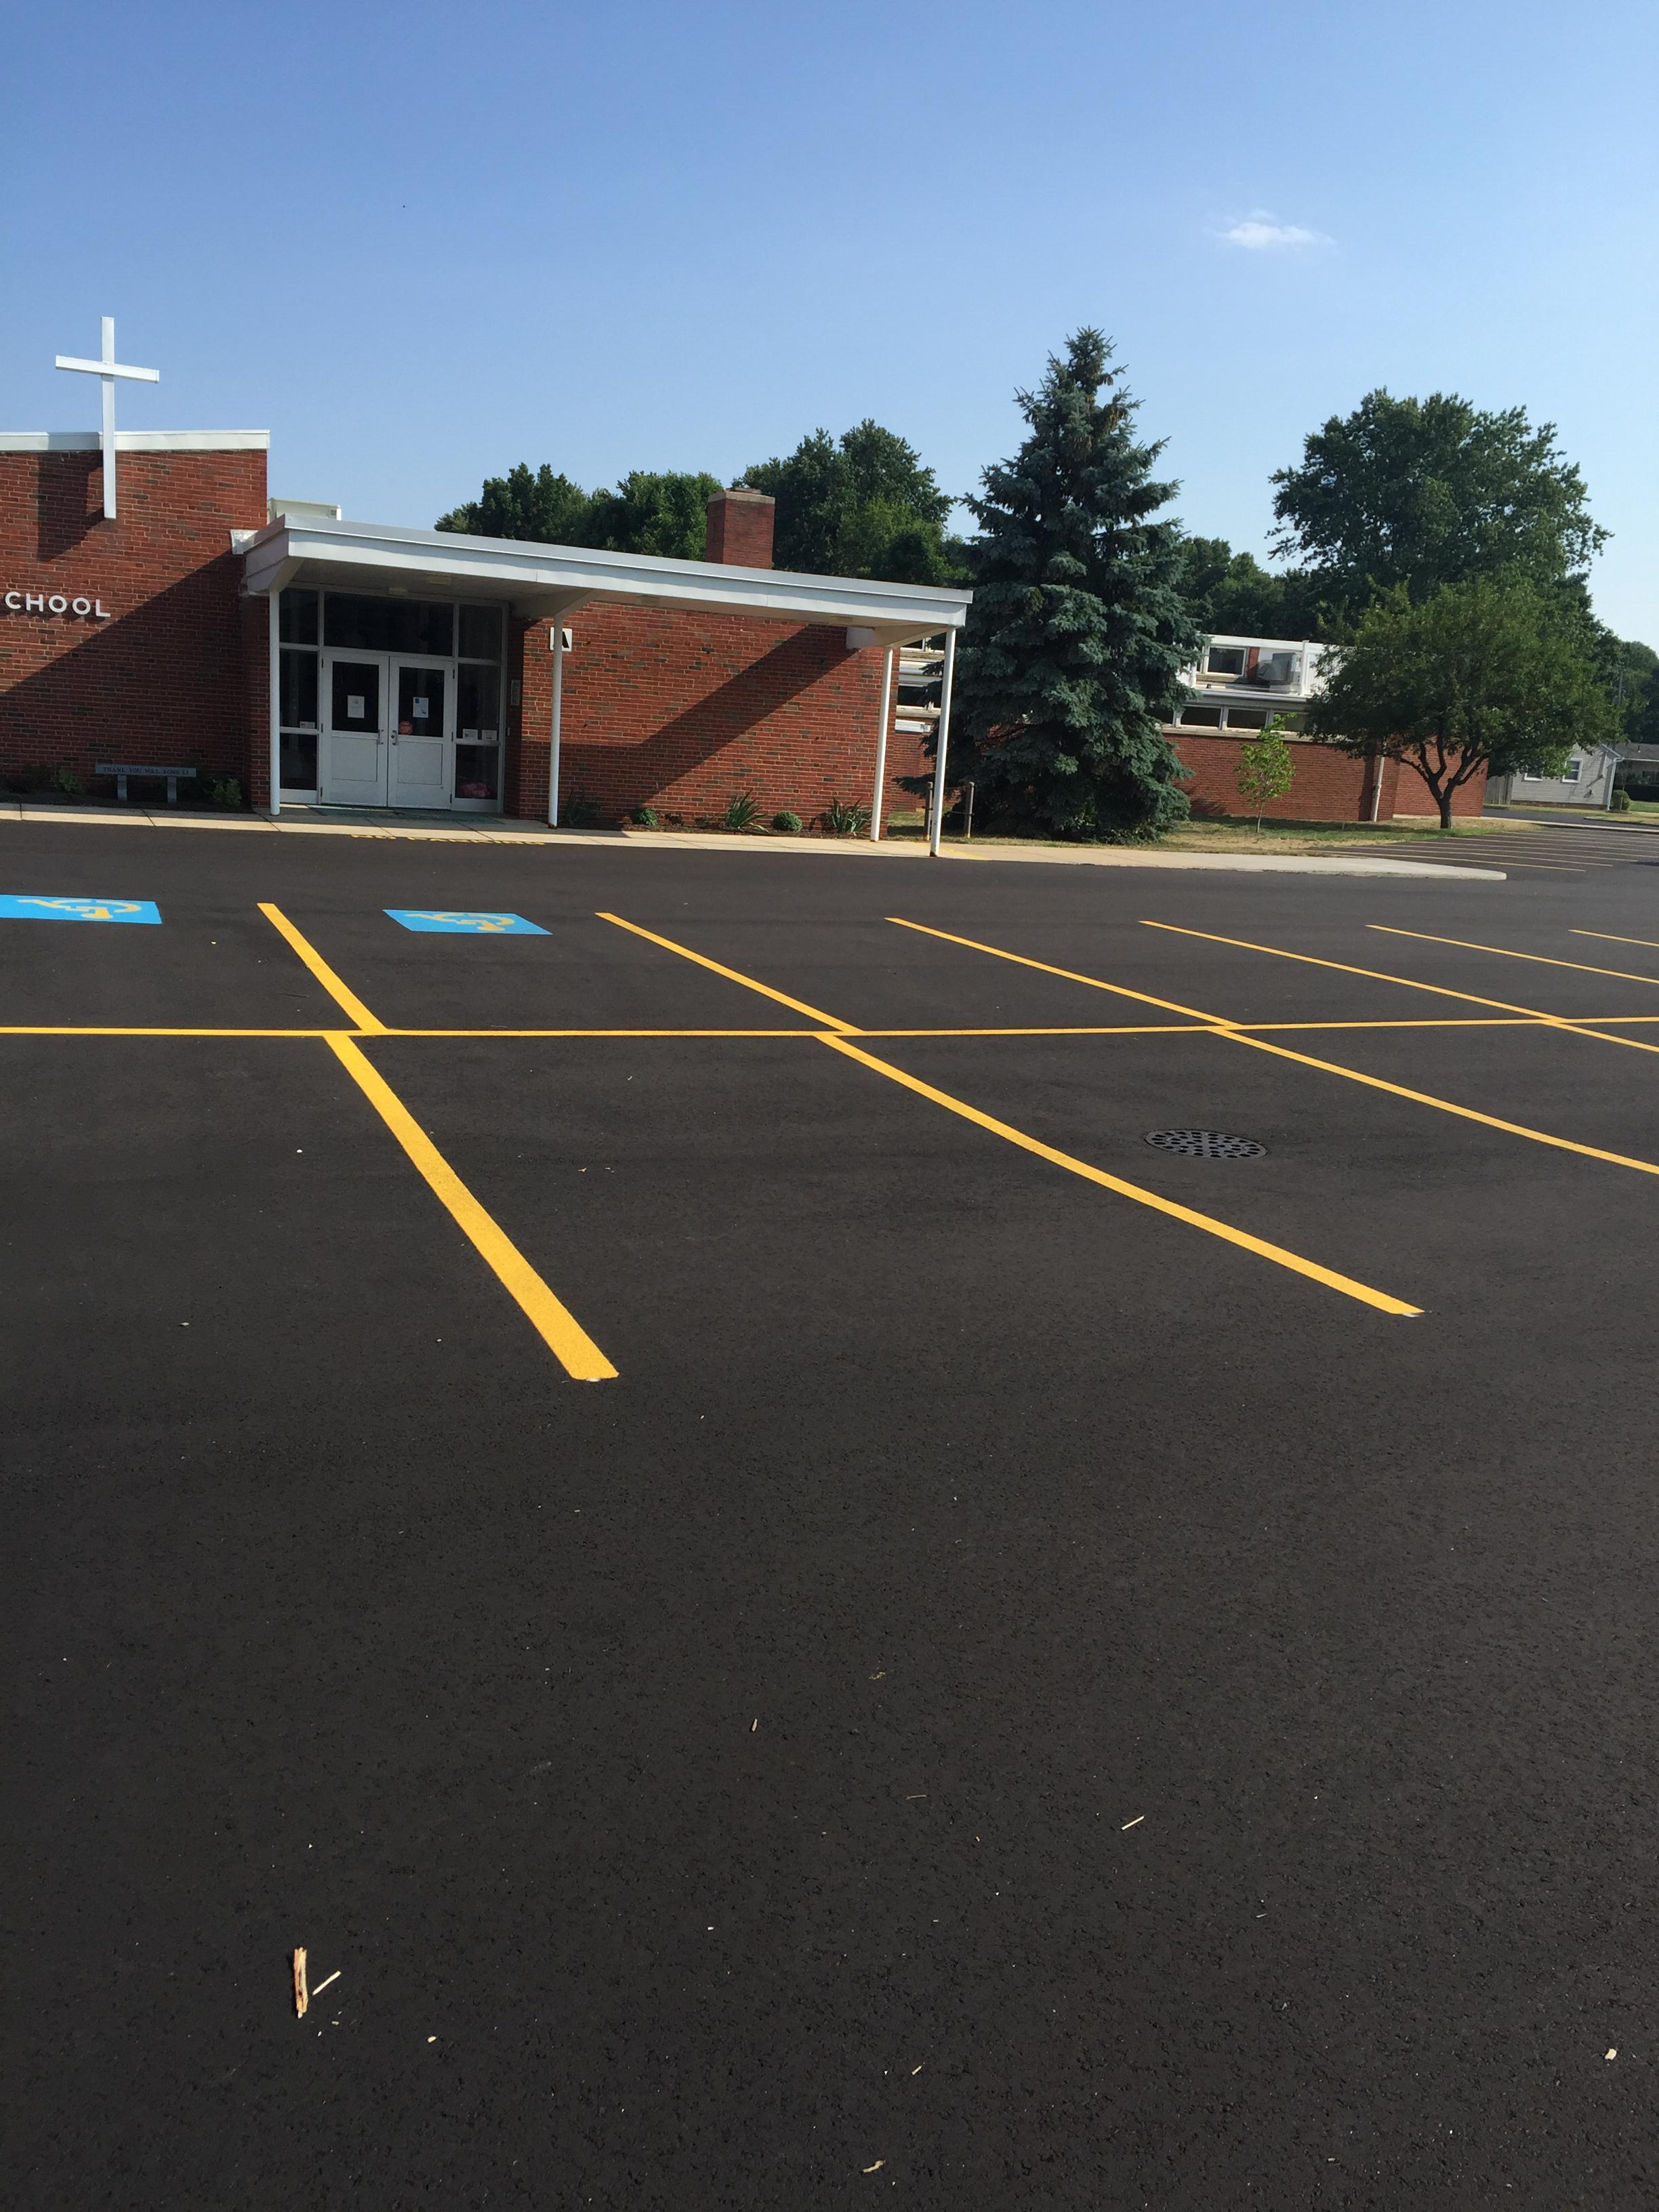empyt_space: (317, 1003, 1443, 1393), (816, 988, 1659, 1331), (3, 1003, 624, 1409), (613, 871, 1269, 1075), (240, 867, 871, 1069), (890, 874, 1561, 1049), (1138, 899, 1659, 1047), (0, 871, 401, 1054)
